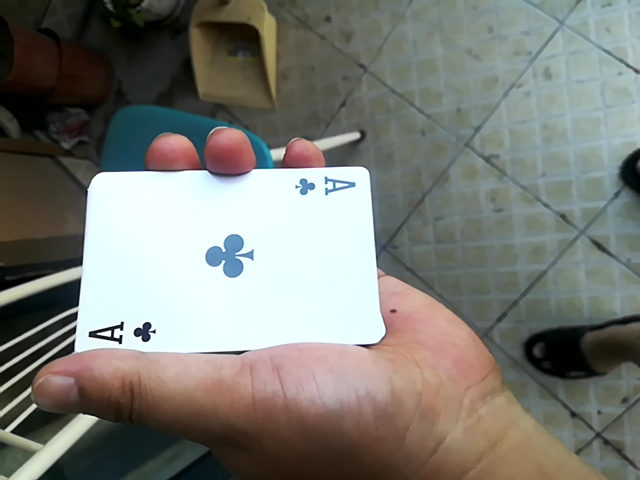mh a: (62, 162, 376, 363)
